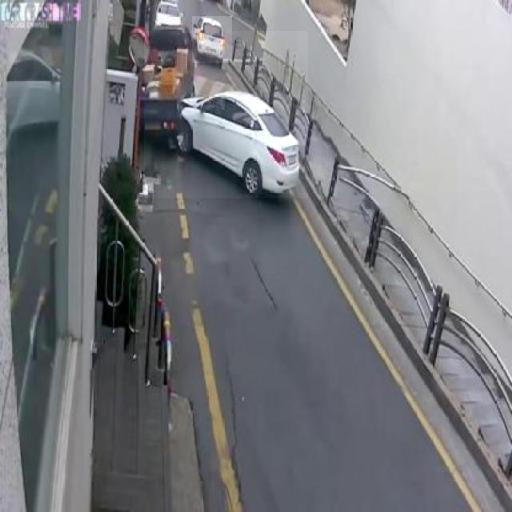小汽车: (192, 16, 232, 63)
小汽车撞小汽车: (144, 31, 308, 198)
